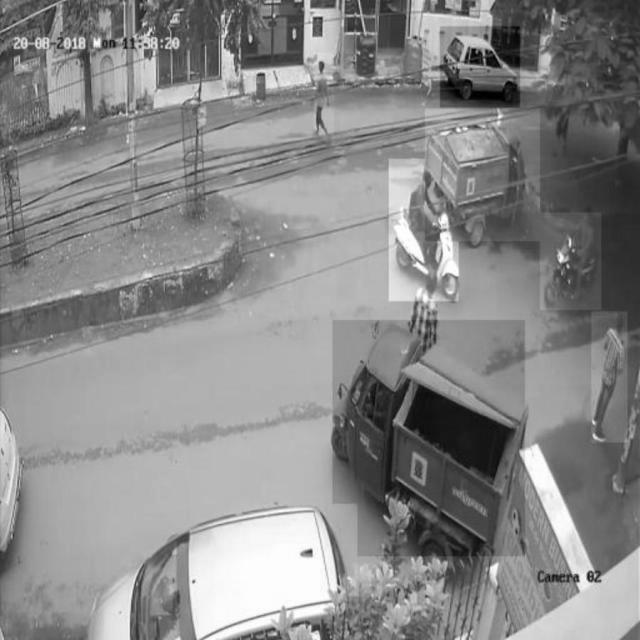person: (592, 312, 628, 443), (314, 53, 334, 139)
vehicle: (333, 320, 525, 556), (82, 504, 356, 638), (425, 109, 541, 241), (389, 160, 459, 302), (440, 27, 520, 108), (540, 212, 601, 310)
